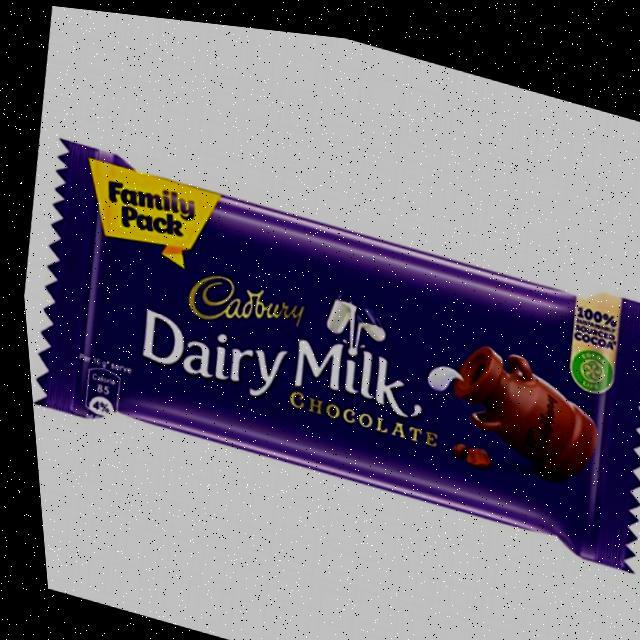cadbury_chocolate: (70, 135, 640, 553)
